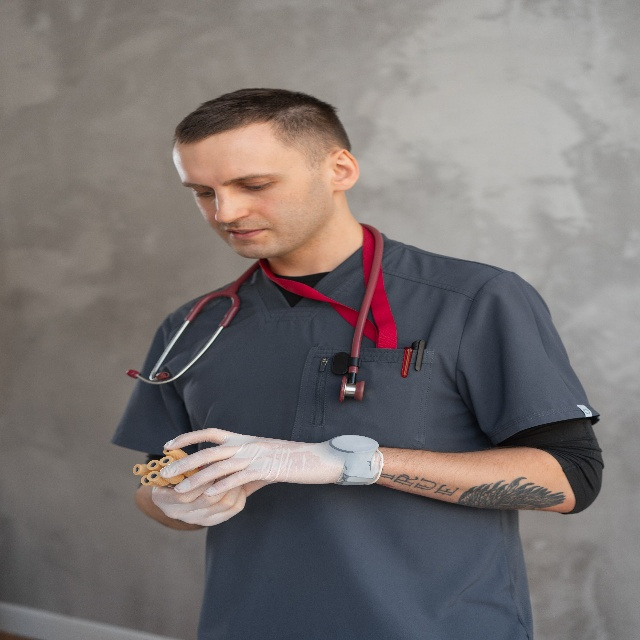Guantes: (160, 426, 383, 497), (152, 476, 248, 527)
Sin_guantes: (160, 427, 332, 497), (152, 485, 247, 527)
